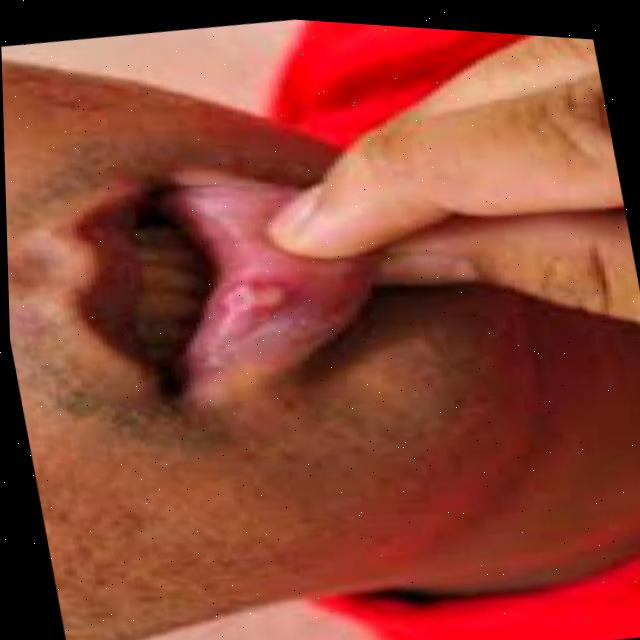Eczema: (204, 254, 309, 335)
